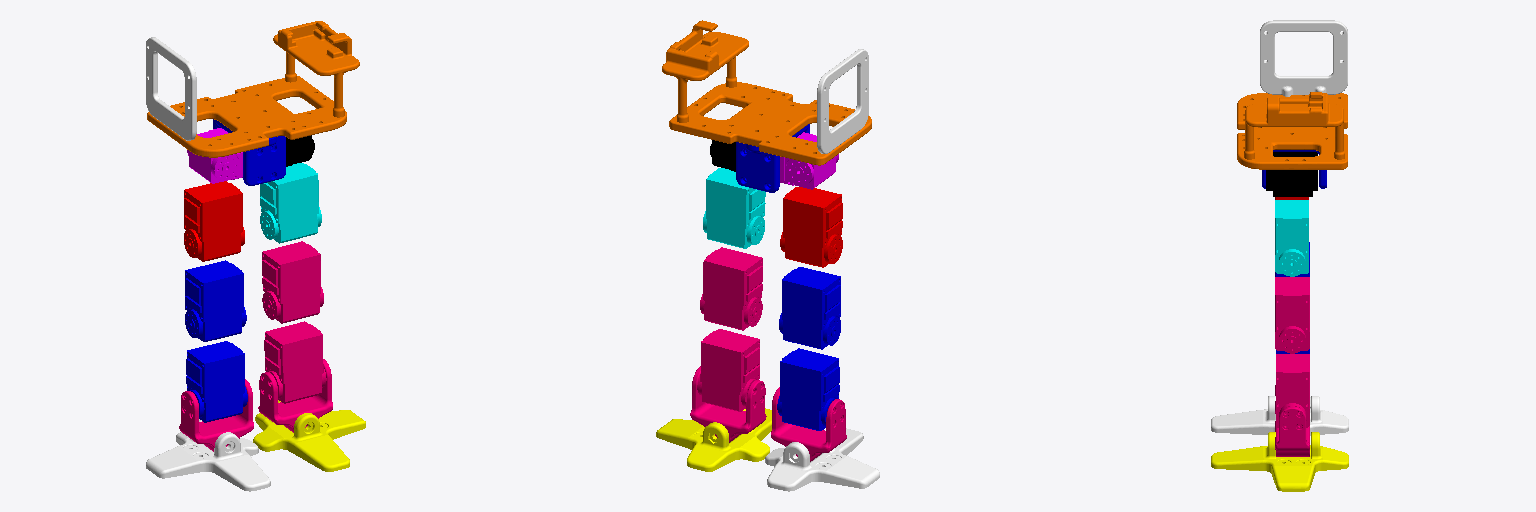
--- Facts derived from the render (not from the file) ---
The picture shows the robot from 3 angles, left to right: view 1: azimuth 30°, elevation 25°; view 2: azimuth 150°, elevation 25°; view 3: azimuth 270°, elevation 25°; orthographic projection.
Robot: test_1 — 24 links, 23 joints (8 revolute, 15 fixed); root link world_link; default pose: every joint at zero.
Links seen in each view (by area): view 1: base_link, LewanSoul_LX-16A_7, LewanSoul_LX-16A_2, LewanSoul_LX-16A_6, footR_1, footL_1, LewanSoul_LX-16A_8, LewanSoul_LX-16A_1, LewanSoul_LX-16A_3, flankL_1, flankR_1, ankleL_1 (+4 smaller); view 2: base_link, LewanSoul_LX-16A_2, LewanSoul_LX-16A_7, LewanSoul_LX-16A_6, LewanSoul_LX-16A_8, LewanSoul_LX-16A_1, footR_1, LewanSoul_LX-16A_3, flankL_1, footL_1, flankR_1, ankleL_2 (+4 smaller); view 3: base_link, flankR_1, footL_1, flankL_1, LewanSoul_LX-16A_2, LewanSoul_LX-16A_3, footR_1, LewanSoul_LX-16A_1, LewanSoul_LX-16A_4, ankleL_1.
Boxes of the visible links, left/top/right/bottom form: base_link: left=147, top=76, right=346, bottom=157; LewanSoul_LX-16A_7: left=185, top=260, right=246, bottom=341; LewanSoul_LX-16A_2: left=262, top=241, right=323, bottom=323; LewanSoul_LX-16A_6: left=184, top=181, right=244, bottom=261; footR_1: left=146, top=419, right=270, bottom=491; footL_1: left=253, top=400, right=365, bottom=471; LewanSoul_LX-16A_8: left=186, top=341, right=247, bottom=422; LewanSoul_LX-16A_1: left=264, top=321, right=326, bottom=403; LewanSoul_LX-16A_3: left=260, top=163, right=321, bottom=243; flankL_1: left=273, top=21, right=359, bottom=117; flankR_1: left=146, top=37, right=196, bottom=140; ankleL_1: left=258, top=359, right=332, bottom=432; base_link: left=669, top=82, right=871, bottom=165; LewanSoul_LX-16A_2: left=700, top=247, right=762, bottom=330; LewanSoul_LX-16A_7: left=779, top=267, right=840, bottom=349; LewanSoul_LX-16A_6: left=780, top=187, right=842, bottom=267; LewanSoul_LX-16A_8: left=777, top=348, right=839, bottom=430; LewanSoul_LX-16A_1: left=697, top=329, right=759, bottom=411; footR_1: left=765, top=428, right=879, bottom=491; LewanSoul_LX-16A_3: left=703, top=168, right=765, bottom=248; flankL_1: left=662, top=20, right=748, bottom=122; footL_1: left=656, top=408, right=771, bottom=471; flankR_1: left=817, top=49, right=868, bottom=153; ankleL_2: left=771, top=387, right=846, bottom=461; base_link: left=1237, top=93, right=1347, bottom=169; flankR_1: left=1260, top=20, right=1347, bottom=96; footL_1: left=1211, top=432, right=1348, bottom=491; flankL_1: left=1244, top=92, right=1344, bottom=159; LewanSoul_LX-16A_2: left=1275, top=277, right=1309, bottom=353; LewanSoul_LX-16A_3: left=1275, top=200, right=1308, bottom=276; footR_1: left=1211, top=396, right=1348, bottom=435; LewanSoul_LX-16A_1: left=1276, top=354, right=1309, bottom=427; LewanSoul_LX-16A_4: left=1266, top=152, right=1317, bottom=196; ankleL_1: left=1275, top=406, right=1309, bottom=456.
Bounding box of the posed robot: 0.1624 × 0.1 × 0.3094 m (x, y, z).
Meshes: 23 distinct files referenced, 16 mesh visuals loaded (16 binary STL); not drawn: 7 (reference not matched to a file when rendering).

robot.urdf — test_1:
<?xml version="1.0" ?>
<robot name="test_1">

  <link name="world_link"/>

  <link name="base_link">
    <visual name="base_v2_v1_1_visual">
      <origin xyz="0 0 0" rpy="0 0 0"/>
      <geometry>
        <mesh filename="package://robo1_description/meshes/base_v2_v1_1.stl"/>
      </geometry>
      <material name="base_v2_v1_1-material">
        <color rgba="1 0.5 0 1"/>
      </material>
    </visual>
    <collision name="base_v2_v1_1_collision">
      <origin xyz="0 0 0" rpy="0 0 0"/>
      <geometry>
        <mesh filename="package://robo1_description/meshes/base_v2_v1_1.stl"/>
      </geometry>
    </collision>
    <inertial>
      <mass value="0.11679735"/>
      <inertia ixx="6.8519709e-05" iyy="0.00013766938" izz="0.00020550098" ixy="1.2341219e-06" ixz="-1.3306104e-11" iyz="-1.4089961e-11"/>
      <origin xyz="0.00070233947 0.024174695 0.0029999976" rpy="0 0 0"/>
    </inertial>
  </link>


  <link name="motors_1">
    <visual name="motors_1_visual">
      <origin xyz="0 0 0" rpy="0 0 0"/>
      <geometry>
        <mesh filename="package://robo1_description/meshes/motors_1.stl" scale="0.001 0.001 0.001"/>
      </geometry>
      <material name="motors_1-material">
        <color rgba="0 0 1 1"/>
      </material>
    </visual>
    <collision name="motors_1_collision">
      <origin xyz="0 0 0" rpy="0 0 0"/>
      <geometry>
        <mesh filename="package://robo1_description/meshes/motors_1.stl" scale="0.001 0.001 0.001"/>
      </geometry>
    </collision>
    <inertial>
      <mass value="0.048823099"/>
      <inertia ixx="2.3198055e-05" iyy="1.2417377e-05" izz="1.9325234e-05" ixy="-5.6234682e-07" ixz="4.3725248e-07" iyz="4.6894448e-06"/>
      <origin xyz="0.062790204 -0.079263271 -0.22857508" rpy="0 0 0"/>
    </inertial>
  </link>


  
  <link name="LewanSoul_LX-16A_4">
    <visual name="LewanSoul_LX-16A_4_visual">
      <origin xyz="0 0 0" rpy="0 0 0"/>
      <geometry>
        <mesh filename="package://robo1_description/meshes/LewanSoul_LX-16A_4.stl"/>
      </geometry>
      <material name="LewanSoul_LX-16A_4-material">
        <color rgba="0 0 0 1"/>
      </material>
    </visual>
    <collision name="LewanSoul_LX-16A_4_collision">
      <origin xyz="0 0 0" rpy="0 0 0"/>
      <geometry>
        <mesh filename="package://robo1_description/meshes/LewanSoul_LX-16A_4.stl"/>
      </geometry>
    </collision>
    <inertial>
      <mass value="0.10058414"/>
      <inertia ixx="2.6616007e-05" iyy="1.4611594e-05" izz="2.1757467e-05" ixy="1.4491951e-10" ixz="-5.0256521e-13" iyz="-3.8867277e-07"/>
      <origin xyz="-0.01050014 0.016968516 -0.015849081" rpy="0 0 0"/>
    </inertial>
  </link>
  <link name="LewanSoul_LX-16A_5">
    <visual name="LewanSoul_LX-16A_5_visual">
      <origin xyz="0 0 0" rpy="0 0 0"/>
      <geometry>
        <mesh filename="package://robo1_description/meshes/LewanSoul_LX-16A_5.stl"/>
      </geometry>
      <material name="LewanSoul_LX-16A_5-material">
        <color rgba="1 0 1 1"/>
      </material>
    </visual>
    <collision name="LewanSoul_LX-16A_5_collision">
      <origin xyz="0 0 0" rpy="0 0 0"/>
      <geometry>
        <mesh filename="package://robo1_description/meshes/LewanSoul_LX-16A_5.stl"/>
      </geometry>
    </collision>
    <inertial>
      <mass value="0.10058414"/>
      <inertia ixx="2.6616007e-05" iyy="1.4611594e-05" izz="2.1757467e-05" ixy="1.4491951e-10" ixz="-5.0256521e-13" iyz="-3.8867277e-07"/>
      <origin xyz="0.01049986 0.016968516 -0.015849081" rpy="0 0 0"/>
    </inertial>
  </link>
  <link name="flankL_1">
    <visual name="flankL_1_visual">
      <origin xyz="0 0 0" rpy="0 0 0"/>
      <geometry>
        <mesh filename="package://robo1_description/meshes/flankL_1.stl"/>
      </geometry>
      <material name="flankL_1-material">
        <color rgba="1 0.5 0 1"/>
      </material>
    </visual>
    <collision name="flankL_1_collision">
      <origin xyz="0 0 0" rpy="0 0 0"/>
      <geometry>
        <mesh filename="package://robo1_description/meshes/flankL_1.stl"/>
      </geometry>
    </collision>
    <inertial>
      <mass value="0.040916531"/>
      <inertia ixx="2.163188e-05" iyy="6.8019186e-06" izz="2.2297702e-05" ixy="-5.2459172e-07" ixz="5.9460615e-07" iyz="-4.2299613e-07"/>
      <origin xyz="0.0025499628 0.030815436 -0.033323148" rpy="0 0 0"/>
    </inertial>
  </link>
  <link name="flankR_1">
    <visual name="flankR_1_visual">
      <origin xyz="0 0 0" rpy="0 0 0"/>
      <geometry>
        <mesh filename="package://robo1_description/meshes/flankR_1.stl"/>
      </geometry>
      <material name="flankR_1-material">
        <color rgba="1 1 1 1"/>
      </material>
    </visual>
    <collision name="flankR_1_collision">
      <origin xyz="0 0 0" rpy="0 0 0"/>
      <geometry>
        <mesh filename="package://robo1_description/meshes/flankR_1.stl"/>
      </geometry>
    </collision>
    <inertial>
      <mass value="0.02258963"/>
      <inertia ixx="1.8673381e-05" iyy="8.5542641e-06" izz="1.0185141e-05" ixy="1.7544307e-12" ixz="-2.6977329e-08" iyz="-1.0692614e-10"/>
      <origin xyz="-0.0019492386 -0.012000458 -0.02636132" rpy="0 0 0"/>
    </inertial>
  </link>
  <link name="batteryHolder_v2_1">
    <visual name="batteryHolder_v2_1_visual">
      <origin xyz="0 0 0" rpy="0 0 0"/>
      <geometry>
        <mesh filename="package://robo1_description/meshes/batteryHolder_v2_1.stl"/>
      </geometry>
      <material name="batteryHolder_v2_1-material">
        <color rgba="1 0 0.5 1"/>
      </material>
    </visual>
    <collision name="batteryHolder_v2_1_collision">
      <origin xyz="0 0 0" rpy="0 0 0"/>
      <geometry>
        <mesh filename="package://robo1_description/meshes/batteryHolder_v2_1.stl"/>
      </geometry>
    </collision>
    <inertial>
      <mass value="0.08077787"/>
      <inertia ixx="6.5233669e-05" iyy="8.224513e-05" izz="3.4366883e-05" ixy="4.6430999e-11" ixz="-6.121992e-12" iyz="2.1593992e-06"/>
      <origin xyz="0.015000033 0.011998613 -0.023242364" rpy="0 0 0"/>
    </inertial>
  </link>
  <link name="hip_1">
    <visual name="hip_1_visual">
      <origin xyz="0 0 0" rpy="0 0 0"/>
      <geometry>
        <mesh filename="package://robo1_description/meshes/hip_1.stl"/>
      </geometry>
      <material name="hip_1-material">
        <color rgba="0 1 1 1"/>
      </material>
    </visual>
    <collision name="hip_1_collision">
      <origin xyz="0 0 0" rpy="0 0 0"/>
      <geometry>
        <mesh filename="package://robo1_description/meshes/hip_1.stl"/>
      </geometry>
    </collision>
    <inertial>
      <mass value="0.03943546"/>
      <inertia ixx="1.4607056e-05" iyy="1.2283553e-05" izz="1.1165972e-05" ixy="-1.050652e-07" ixz="1.0252511e-10" iyz="-7.5816238e-11"/>
      <origin xyz="0.019931771 0.00015863118 -0.01900017" rpy="0 0 0"/>
    </inertial>
  </link>
  <link name="hip_2">
    <visual name="hip_2_visual">
      <origin xyz="0 0 0" rpy="0 0 0"/>
      <geometry>
        <mesh filename="package://robo1_description/meshes/hip_2.stl"/>
      </geometry>
      <material name="hip_2-material">
        <color rgba="0 1 0 1"/>
      </material>
    </visual>
    <collision name="hip_2_collision">
      <origin xyz="0 0 0" rpy="0 0 0"/>
      <geometry>
        <mesh filename="package://robo1_description/meshes/hip_2.stl"/>
      </geometry>
    </collision>
    <inertial>
      <mass value="0.03943546"/>
      <inertia ixx="1.4607056e-05" iyy="1.2283553e-05" izz="1.1165972e-05" ixy="-1.050652e-07" ixz="-1.0252511e-10" iyz="7.5816238e-11"/>
      <origin xyz="-0.019931771 -0.00015863118 -0.01900017" rpy="0 0 0"/>
    </inertial>
  </link>
  <link name="LewanSoul_LX-16A_3">
    <visual name="LewanSoul_LX-16A_3_visual">
      <origin xyz="0 0 0" rpy="0 0 0"/>
      <geometry>
        <mesh filename="package://robo1_description/meshes/LewanSoul_LX-16A_3.stl"/>
      </geometry>
      <material name="LewanSoul_LX-16A_3-material">
        <color rgba="0 1 1 1"/>
      </material>
    </visual>
    <collision name="LewanSoul_LX-16A_3_collision">
      <origin xyz="0 0 0" rpy="0 0 0"/>
      <geometry>
        <mesh filename="package://robo1_description/meshes/LewanSoul_LX-16A_3.stl"/>
      </geometry>
    </collision>
    <inertial>
      <mass value="0.10058414"/>
      <inertia ixx="2.6616007e-05" iyy="1.4611594e-05" izz="2.1757467e-05" ixy="-1.4491951e-10" ixz="-5.0256521e-13" iyz="3.8867277e-07"/>
      <origin xyz="0.01050014 0.016968516 0.015849081" rpy="0 0 0"/>
    </inertial>
  </link>
  <link name="LewanSoul_LX-16A_6">
    <visual name="LewanSoul_LX-16A_6_visual">
      <origin xyz="0 0 0" rpy="0 0 0"/>
      <geometry>
        <mesh filename="package://robo1_description/meshes/LewanSoul_LX-16A_6.stl"/>
      </geometry>
      <material name="LewanSoul_LX-16A_6-material">
        <color rgba="1 0 0 1"/>
      </material>
    </visual>
    <collision name="LewanSoul_LX-16A_6_collision">
      <origin xyz="0 0 0" rpy="0 0 0"/>
      <geometry>
        <mesh filename="package://robo1_description/meshes/LewanSoul_LX-16A_6.stl"/>
      </geometry>
    </collision>
    <inertial>
      <mass value="0.10058414"/>
      <inertia ixx="2.6616007e-05" iyy="1.4611594e-05" izz="2.1757467e-05" ixy="-1.4491951e-10" ixz="-5.0256521e-13" iyz="3.8867277e-07"/>
      <origin xyz="0.01050014 0.016968516 0.015849081" rpy="0 0 0"/>
    </inertial>
  </link>
  <link name="leg_segment_2">
    <visual name="leg_segment_2_visual">
      <origin xyz="0 0 0" rpy="0 0 0"/>
      <geometry>
        <mesh filename="package://robo1_description/meshes/leg_segment_2.stl"/>
      </geometry>
      <material name="leg_segment_2-material">
        <color rgba="1 0 0 1"/>
      </material>
    </visual>
    <collision name="leg_segment_2_collision">
      <origin xyz="0 0 0" rpy="0 0 0"/>
      <geometry>
        <mesh filename="package://robo1_description/meshes/leg_segment_2.stl"/>
      </geometry>
    </collision>
    <inertial>
      <mass value="0.034287197"/>
      <inertia ixx="1.5672114e-05" iyy="1.2778538e-05" izz="5.8827493e-06" ixy="9.5502308e-11" ixz="-9.1741836e-11" iyz="-1.0714603e-07"/>
      <origin xyz="-2.0405501e-07 0.019606021 -0.0188177" rpy="0 0 0"/>
    </inertial>
  </link>
  <link name="leg_segment_3">
    <visual name="leg_segment_3_visual">
      <origin xyz="0 0 0" rpy="0 0 0"/>
      <geometry>
        <mesh filename="package://robo1_description/meshes/leg_segment_3.stl"/>
      </geometry>
      <material name="leg_segment_3-material">
        <color rgba="1 1 1 1"/>
      </material>
    </visual>
    <collision name="leg_segment_3_collision">
      <origin xyz="0 0 0" rpy="0 0 0"/>
      <geometry>
        <mesh filename="package://robo1_description/meshes/leg_segment_3.stl"/>
      </geometry>
    </collision>
    <inertial>
      <mass value="0.034287197"/>
      <inertia ixx="1.5672114e-05" iyy="1.2778538e-05" izz="5.8827493e-06" ixy="9.5502308e-11" ixz="-9.1741836e-11" iyz="-1.0714603e-07"/>
      <origin xyz="-2.0405501e-07 0.019606021 -0.0188177" rpy="0 0 0"/>
    </inertial>
  </link>
  <link name="LewanSoul_LX-16A_2">
    <visual name="LewanSoul_LX-16A_2_visual">
      <origin xyz="0 0 0" rpy="0 0 0"/>
      <geometry>
        <mesh filename="package://robo1_description/meshes/LewanSoul_LX-16A_2.stl"/>
      </geometry>
      <material name="LewanSoul_LX-16A_2-material">
        <color rgba="1 0 0.5 1"/>
      </material>
    </visual>
    <collision name="LewanSoul_LX-16A_2_collision">
      <origin xyz="0 0 0" rpy="0 0 0"/>
      <geometry>
        <mesh filename="package://robo1_description/meshes/LewanSoul_LX-16A_2.stl"/>
      </geometry>
    </collision>
    <inertial>
      <mass value="0.10058414"/>
      <inertia ixx="2.6616007e-05" iyy="1.4611594e-05" izz="2.1757467e-05" ixy="1.4491951e-10" ixz="-5.0256521e-13" iyz="-3.8867277e-07"/>
      <origin xyz="-0.01050014 0.016968516 -0.015849081" rpy="0 0 0"/>
    </inertial>
  </link>
  <link name="LewanSoul_LX-16A_7">
    <visual name="LewanSoul_LX-16A_7_visual">
      <origin xyz="0 0 0" rpy="0 0 0"/>
      <geometry>
        <mesh filename="package://robo1_description/meshes/LewanSoul_LX-16A_7.stl"/>
      </geometry>
      <material name="LewanSoul_LX-16A_7-material">
        <color rgba="0 0 1 1"/>
      </material>
    </visual>
    <collision name="LewanSoul_LX-16A_7_collision">
      <origin xyz="0 0 0" rpy="0 0 0"/>
      <geometry>
        <mesh filename="package://robo1_description/meshes/LewanSoul_LX-16A_7.stl"/>
      </geometry>
    </collision>
    <inertial>
      <mass value="0.10058414"/>
      <inertia ixx="2.6616007e-05" iyy="1.4611594e-05" izz="2.1757467e-05" ixy="1.4491951e-10" ixz="-5.0256521e-13" iyz="-3.8867277e-07"/>
      <origin xyz="-0.01050014 0.016968516 -0.015849081" rpy="0 0 0"/>
    </inertial>
  </link>
  <link name="leg_segment_1">
    <visual name="leg_segment_1_visual">
      <origin xyz="0 0 0" rpy="0 0 0"/>
      <geometry>
        <mesh filename="package://robo1_description/meshes/leg_segment_1.stl"/>
      </geometry>
      <material name="leg_segment_1-material">
        <color rgba="1 0 0.5 1"/>
      </material>
    </visual>
    <collision name="leg_segment_1_collision">
      <origin xyz="0 0 0" rpy="0 0 0"/>
      <geometry>
        <mesh filename="package://robo1_description/meshes/leg_segment_1.stl"/>
      </geometry>
    </collision>
    <inertial>
      <mass value="0.034287197"/>
      <inertia ixx="1.5672114e-05" iyy="1.2778538e-05" izz="5.8827493e-06" ixy="9.5502308e-11" ixz="-9.1741836e-11" iyz="-1.0714603e-07"/>
      <origin xyz="-2.0405501e-07 0.019606021 -0.0188177" rpy="0 0 0"/>
    </inertial>
  </link>
  <link name="leg_segment_4">
    <visual name="leg_segment_4_visual">
      <origin xyz="0 0 0" rpy="0 0 0"/>
      <geometry>
        <mesh filename="package://robo1_description/meshes/leg_segment_4.stl"/>
      </geometry>
      <material name="leg_segment_4-material">
        <color rgba="1 0.5 0 1"/>
      </material>
    </visual>
    <collision name="leg_segment_4_collision">
      <origin xyz="0 0 0" rpy="0 0 0"/>
      <geometry>
        <mesh filename="package://robo1_description/meshes/leg_segment_4.stl"/>
      </geometry>
    </collision>
    <inertial>
      <mass value="0.034287197"/>
      <inertia ixx="1.5672114e-05" iyy="1.2778538e-05" izz="5.8827493e-06" ixy="9.5502308e-11" ixz="-9.1741836e-11" iyz="-1.0714603e-07"/>
      <origin xyz="-2.0405501e-07 0.019606021 -0.0188177" rpy="0 0 0"/>
    </inertial>
  </link>
  <link name="LewanSoul_LX-16A_1">
    <visual name="LewanSoul_LX-16A_1_visual">
      <origin xyz="0 0 0" rpy="0 0 0"/>
      <geometry>
        <mesh filename="package://robo1_description/meshes/LewanSoul_LX-16A_1.stl"/>
      </geometry>
      <material name="LewanSoul_LX-16A_1-material">
        <color rgba="1 0 0.5 1"/>
      </material>
    </visual>
    <collision name="LewanSoul_LX-16A_1_collision">
      <origin xyz="0 0 0" rpy="0 0 0"/>
      <geometry>
        <mesh filename="package://robo1_description/meshes/LewanSoul_LX-16A_1.stl"/>
      </geometry>
    </collision>
    <inertial>
      <mass value="0.10058414"/>
      <inertia ixx="2.6616007e-05" iyy="1.4611594e-05" izz="2.1757467e-05" ixy="1.4491951e-10" ixz="-5.0256521e-13" iyz="-3.8867277e-07"/>
      <origin xyz="-0.01050014 0.016968516 -0.015849081" rpy="0 0 0"/>
    </inertial>
  </link>
  <link name="LewanSoul_LX-16A_8">
    <visual name="LewanSoul_LX-16A_8_visual">
      <origin xyz="0 0 0" rpy="0 0 0"/>
      <geometry>
        <mesh filename="package://robo1_description/meshes/LewanSoul_LX-16A_8.stl"/>
      </geometry>
      <material name="LewanSoul_LX-16A_8-material">
        <color rgba="0 0 1 1"/>
      </material>
    </visual>
    <collision name="LewanSoul_LX-16A_8_collision">
      <origin xyz="0 0 0" rpy="0 0 0"/>
      <geometry>
        <mesh filename="package://robo1_description/meshes/LewanSoul_LX-16A_8.stl"/>
      </geometry>
    </collision>
    <inertial>
      <mass value="0.10058414"/>
      <inertia ixx="2.6616007e-05" iyy="1.4611594e-05" izz="2.1757467e-05" ixy="1.4491951e-10" ixz="-5.0256521e-13" iyz="-3.8867277e-07"/>
      <origin xyz="-0.01050014 0.016968516 -0.015849081" rpy="0 0 0"/>
    </inertial>
  </link>
  <link name="ankleL_1">
    <visual name="ankleL_1_visual">
      <origin xyz="0 0 0" rpy="0 0 0"/>
      <geometry>
        <mesh filename="package://robo1_description/meshes/ankleL_1.stl"/>
      </geometry>
      <material name="ankleL_1-material">
        <color rgba="1 0 0.5 1"/>
      </material>
    </visual>
    <collision name="ankleL_1_collision">
      <origin xyz="0 0 0" rpy="0 0 0"/>
      <geometry>
        <mesh filename="package://robo1_description/meshes/ankleL_1.stl"/>
      </geometry>
    </collision>
    <inertial>
      <mass value="0.041114823"/>
      <inertia ixx="1.2862196e-05" iyy="1.0087583e-05" izz="6.5210565e-06" ixy="-7.4799325e-12" ixz="-4.0173435e-11" iyz="4.1231693e-12"/>
      <origin xyz="-2.9762508e-08 -0.020740566 -0.018999978" rpy="0 0 0"/>
    </inertial>
  </link>
  <link name="ankleL_2">
    <visual name="ankleL_2_visual">
      <origin xyz="0 0 0" rpy="0 0 0"/>
      <geometry>
        <mesh filename="package://robo1_description/meshes/ankleL_2.stl"/>
      </geometry>
      <material name="ankleL_2-material">
        <color rgba="1 0 0.5 1"/>
      </material>
    </visual>
    <collision name="ankleL_2_collision">
      <origin xyz="0 0 0" rpy="0 0 0"/>
      <geometry>
        <mesh filename="package://robo1_description/meshes/ankleL_2.stl"/>
      </geometry>
    </collision>
    <inertial>
      <mass value="0.041114823"/>
      <inertia ixx="1.2862196e-05" iyy="1.0087583e-05" izz="6.5210565e-06" ixy="-7.4799325e-12" ixz="-4.0173435e-11" iyz="4.1231693e-12"/>
      <origin xyz="-2.9762508e-08 -0.020740566 -0.018999978" rpy="0 0 0"/>
    </inertial>
  </link>
  <link name="footL_1">
    <visual name="footL_1_visual">
      <origin xyz="0 0 0" rpy="0 0 0"/>
      <geometry>
        <mesh filename="package://robo1_description/meshes/footL_1.stl"/>
      </geometry>
      <material name="footL_1-material">
        <color rgba="1 1 0 1"/>
      </material>
    </visual>
    <collision name="footL_1_collision">
      <origin xyz="0 0 0" rpy="0 0 0"/>
      <geometry>
        <mesh filename="package://robo1_description/meshes/footL_1.stl"/>
      </geometry>
    </collision>
    <inertial>
      <mass value="0.077574725"/>
      <inertia ixx="3.5396869e-05" iyy="5.4589755e-05" izz="2.1913478e-05" ixy="5.1045022e-07" ixz="1.8275585e-06" iyz="5.8749415e-07"/>
      <origin xyz="0.005459001 -0.010416339 -0.0086100609" rpy="0 0 0"/>
    </inertial>
  </link>
  <link name="footR_1">
    <visual name="footR_1_visual">
      <origin xyz="0 0 0" rpy="0 0 0"/>
      <geometry>
        <mesh filename="package://robo1_description/meshes/footR_1.stl"/>
      </geometry>
      <material name="footR_1-material">
        <color rgba="1 1 1 1"/>
      </material>
    </visual>
    <collision name="footR_1_collision">
      <origin xyz="0 0 0" rpy="0 0 0"/>
      <geometry>
        <mesh filename="package://robo1_description/meshes/footR_1.stl"/>
      </geometry>
    </collision>
    <inertial>
      <mass value="0.077575551"/>
      <inertia ixx="3.5397722e-05" iyy="5.4590634e-05" izz="2.1913513e-05" ixy="5.1046542e-07" ixz="1.8275567e-06" iyz="5.87493e-07"/>
      <origin xyz="-0.0054588413 0.010416318 0.0086100771" rpy="0 0 0"/>
    </inertial>
  </link>

  <!-- joints (modified the listed joints to revolute and added axis/limit where appropriate) -->

  <joint name="world_to_base" type="fixed">
   <origin xyz="0 0 0.25" rpy="0 0 0"/>
    <parent link="world_link"/>
    <child link="base_link"/>
  </joint>

  <joint name="Fastened_1" type="fixed">
    <origin xyz="0 0.025 -0.007" rpy="0 0 0"/>
    <parent link="base_link"/>
    <child link="motors_1"/>
  </joint>

  <joint name="Fastened_9" type="fixed">
  <origin xyz="0 -0.017 -0.023" rpy="0 1.57 -1.57"/>
  <parent link="motors_1"/>
  <child link="LewanSoul_LX-16A_4"/>
  </joint>

  <joint name="Fastened_6" type="fixed">
  <origin xyz="0 -0.017 -0.023" rpy="0 -1.57 1.57"/>
  <parent link="motors_1"/>
  <child link="LewanSoul_LX-16A_5"/>
  </joint>

  <joint name="Fastened_2" type="fixed">
    <origin xyz="0.051 0.0575 0.006" rpy="3.1415927 0 0"/>
    <parent link="base_link"/>
    <child link="flankL_1"/>
  </joint>

  <joint name="Fastened_3" type="fixed">
    <origin xyz="-0.0557 0.01970341 0.006" rpy="3.1415927 0 0"/>
    <parent link="base_link"/>
    <child link="flankR_1"/>
  </joint>

  <joint name="Fastened_7" type="fixed">
    <origin xyz="-0.015 0.0585 0.006" rpy="0 0 0"/>
    <parent link="base_link"/>
    <child link="batteryHolder_v2_1"/>
  </joint>

  <joint name="Revolute_5" type="revolute">
    <origin xyz="-0.0105 0.0295 0.0039" rpy="0 0 0.015"/>
    <parent link="LewanSoul_LX-16A_4"/>
    <child link="hip_1"/>
    <axis xyz="0 0 -1"/>
    <limit effort="1" velocity="1" lower="-6.2831853" upper="6.2831853"/>
  </joint>

  <joint name="Revolute_5_1" type="revolute">
    <origin xyz="0.0105 0.0295 0.0039" rpy="0 0 0"/>
    <parent link="LewanSoul_LX-16A_5"/>
    <child link="hip_2"/>
    <axis xyz="0 0 -1"/>
    <limit effort="1" velocity="1" lower="-6.2831853" upper="6.2831853"/>
  </joint>

  <joint name="Fastened_5" type="fixed">
    <origin xyz="0.031 0.0161 -0.0087" rpy="1.5707963 1.5707963 0"/>
    <parent link="hip_1"/>
    <child link="LewanSoul_LX-16A_3"/>
  </joint>

  <!-- changed to revolute (previously declared fixed) -->
  <joint name="Revolute_4_1" type="fixed">
    <origin xyz="-0.031 -0.0161 -0.0087" rpy="-1.5707963 1.5707963 0"/>
    <parent link="hip_2"/>
    <child link="LewanSoul_LX-16A_6"/>
  </joint>

  <joint name="Revolute_3" type="revolute">
    <origin xyz="0.0105 0.0295 -0.0039" rpy="3.1415927 0 3.1415927"/>
    <parent link="LewanSoul_LX-16A_3"/>
    <child link="leg_segment_2"/>
    <axis xyz="0 0 -1"/>
    <limit effort="1" velocity="1" lower="-6.2831853" upper="6.2831853"/>
  </joint>

  <joint name="Revolute_3_1" type="revolute">
    <origin xyz="0.0105 0.0295 -0.0039" rpy="3.1415927 0 3.1415927"/>
    <parent link="LewanSoul_LX-16A_6"/>
    <child link="leg_segment_3"/>
    <axis xyz="0 0 -1"/>
    <limit effort="1" velocity="1" lower="-6.2831853" upper="6.2831853"/>
  </joint>

  <!-- changed to revolute (previously fixed). added axis and limits to be consistent. -->
  <joint name="Revolute_2_1" type="fixed">
    <origin xyz="0.0103 0.031 -0.0029" rpy="0 0 0"/>
    <parent link="leg_segment_2"/>
    <child link="LewanSoul_LX-16A_2"/>
  </joint>

  <!-- changed to revolute (previously fixed). added axis and limits. -->
  <joint name="Revolute_2_1_1" type="fixed">
    <origin xyz="0.0103 0.031 -0.0029" rpy="0 0 0"/>
    <parent link="leg_segment_3"/>
    <child link="LewanSoul_LX-16A_7"/>
  </joint>

  <joint name="Revolute_2" type="revolute">
    <origin xyz="-0.0105 0.0295 0.0039" rpy="0 0 0"/>
    <parent link="LewanSoul_LX-16A_2"/>
    <child link="leg_segment_1"/>
    <axis xyz="0 0 -1"/>
    <limit effort="1" velocity="1" lower="-6.2831853" upper="6.2831853"/>
  </joint>

  <joint name="Fastened_5_1" type="revolute">
    <origin xyz="-0.0105 0.0295 0.0039" rpy="0 0 0"/>
    <parent link="LewanSoul_LX-16A_7"/>
    <child link="leg_segment_4"/>
    <axis xyz="0 0 -1"/>
    <limit effort="1" velocity="1" lower="-6.2831853" upper="6.2831853"/>
  </joint>

  <joint name="Fastened_8" type="fixed">
    <origin xyz="0.0103 0.031 -0.0029" rpy="0 0 0"/>
    <parent link="leg_segment_1"/>
    <child link="LewanSoul_LX-16A_1"/>
  </joint>

  <!-- changed to revolute (previously fixed). added axis & limits. -->
  <joint name="Revolute_2_2" type="fixed">
    <origin xyz="0.0103 0.031 -0.0029" rpy="0 0 0"/>
    <parent link="leg_segment_4"/>
    <child link="LewanSoul_LX-16A_8"/>
  </joint>

  <joint name="Fastened_4" type="fixed">
    <origin xyz="-0.0105 0.0295 -0.0342" rpy="3.1415927 0 0"/>
    <parent link="LewanSoul_LX-16A_1"/>
    <child link="ankleL_1"/>
  </joint>

  <!-- changed to revolute (previously fixed Fastened_4_1) and added axis/limit -->
  <joint name="Fastened_4_1" type="fixed">
    <origin xyz="-0.0105 0.0295 -0.0342" rpy="3.1415927 0 0"/>
    <parent link="LewanSoul_LX-16A_8"/>
    <child link="ankleL_2"/>
  </joint>

  <joint name="Revolute_1" type="revolute">
    <origin xyz="0.0125 -0.029 -0.019" rpy="-0 1.5707963 0"/>
    <parent link="ankleL_1"/>
    <child link="footL_1"/>
    <axis xyz="0 0 -1"/>
    <limit effort="1" velocity="1" lower="-6.2831853" upper="6.2831853"/>
  </joint>

  <joint name="Revolute_7" type="revolute">
    <origin xyz="0.0125 -0.029 -0.019" rpy="3.1415927 1.5707963 0"/>
    <parent link="ankleL_2"/>
    <child link="footR_1"/>
    <axis xyz="0 0 -1"/>
    <limit effort="1" velocity="1" lower="-6.2831853" upper="6.2831853"/>
  </joint>
</robot>
